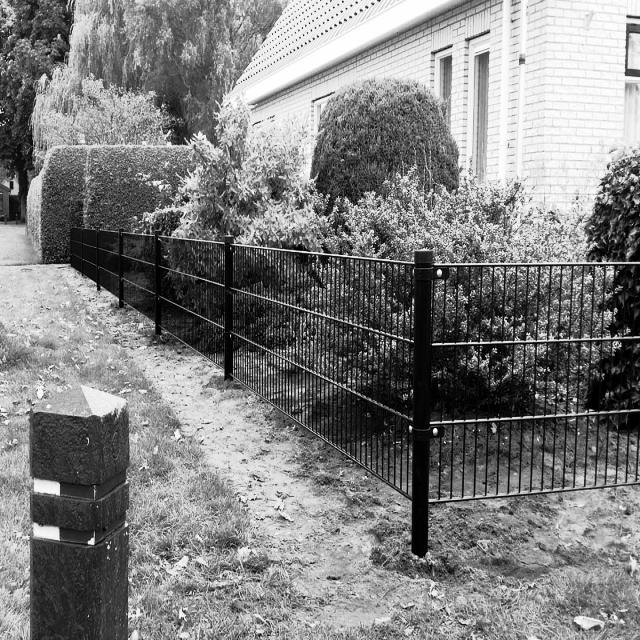fences: (243, 246, 430, 524), (453, 253, 636, 526), (172, 229, 228, 359), (108, 231, 162, 332), (68, 223, 100, 277)
